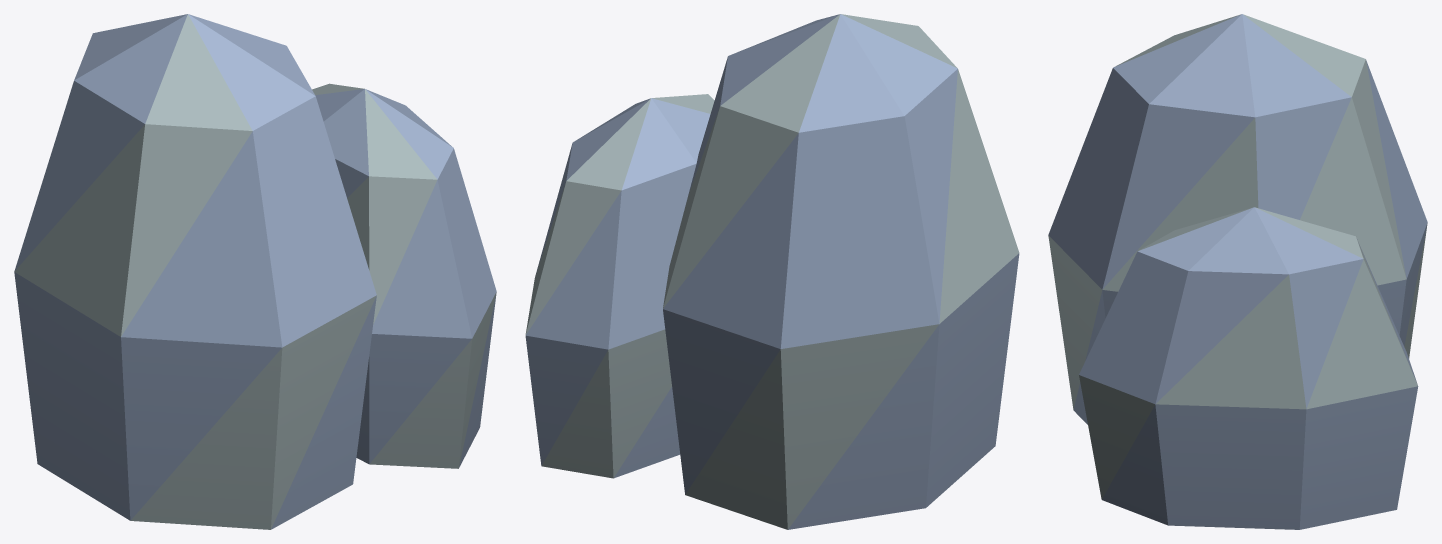
Rendered from rock.glb.
3 renders of one model, left to right at view 1: azimuth 30°, elevation 25°; view 2: azimuth 150°, elevation 25°; view 3: azimuth 270°, elevation 25°, orthographic. The views are drawn at different scales.
Parts seen in each view (by area): view 1: root_mesh; view 2: root_mesh; view 3: root_mesh.
Boxes of the visible parts, x1,y1,x2,y2 form: root_mesh: (14, 14, 496, 529); root_mesh: (525, 14, 1019, 529); root_mesh: (1048, 14, 1427, 529).
Bounding box in the file's own units: 0.9614 × 1 × 0.8572.
